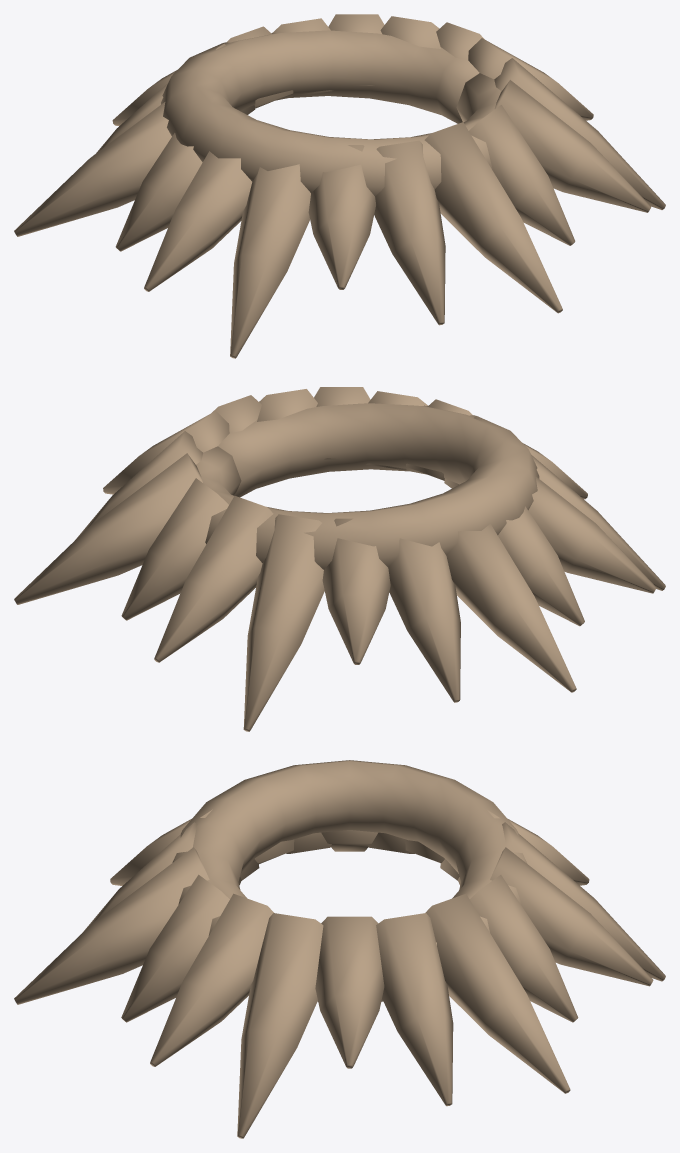
Rendered from echo-ruff.glb.
3 renders of one model, top to bottom at view 1: azimuth 30°, elevation 25°; view 2: azimuth 150°, elevation 25°; view 3: azimuth 270°, elevation 25°, orthographic. The views are drawn at different scales.
Visible parts, largest first — view 1: Echo_ruff_band, Echo_ruff_14, Echo_ruff_11, Echo_ruff_13, Echo_ruff_08, Echo_ruff_16, Echo_ruff_10, Echo_ruff_15, Echo_ruff_12, Echo_ruff_09, Echo_ruff_17, Echo_ruff_00 (+7 smaller); view 2: Echo_ruff_band, Echo_ruff_05, Echo_ruff_02, Echo_ruff_08, Echo_ruff_04, Echo_ruff_07, Echo_ruff_03, Echo_ruff_10, Echo_ruff_06, Echo_ruff_09, Echo_ruff_00, Echo_ruff_01 (+7 smaller); view 3: Echo_ruff_band, Echo_ruff_17, Echo_ruff_02, Echo_ruff_01, Echo_ruff_14, Echo_ruff_16, Echo_ruff_00, Echo_ruff_04, Echo_ruff_15, Echo_ruff_03, Echo_ruff_05, Echo_ruff_13 (+5 smaller).
Part boxes in pixels (x1=…): Echo_ruff_band: x1=161, y1=30, x2=501, y2=196; Echo_ruff_14: x1=424, y1=122, x2=562, y2=313; Echo_ruff_11: x1=230, y1=164, x2=310, y2=358; Echo_ruff_13: x1=374, y1=140, x2=445, y2=325; Echo_ruff_08: x1=14, y1=102, x2=171, y2=236; Echo_ruff_16: x1=494, y1=80, x2=650, y2=212; Echo_ruff_10: x1=144, y1=151, x2=252, y2=291; Echo_ruff_15: x1=469, y1=105, x2=575, y2=245; Echo_ruff_12: x1=308, y1=145, x2=375, y2=289; Echo_ruff_09: x1=115, y1=133, x2=202, y2=251; Echo_ruff_17: x1=494, y1=58, x2=665, y2=209; Echo_ruff_00: x1=468, y1=38, x2=593, y2=120; Echo_ruff_band: x1=196, y1=403, x2=539, y2=569; Echo_ruff_05: x1=243, y1=514, x2=324, y2=731; Echo_ruff_02: x1=14, y1=453, x2=202, y2=604; Echo_ruff_08: x1=446, y1=524, x2=576, y2=692; Echo_ruff_04: x1=154, y1=496, x2=273, y2=662; Echo_ruff_07: x1=388, y1=538, x2=460, y2=702; Echo_ruff_03: x1=121, y1=478, x2=228, y2=620; Echo_ruff_10: x1=528, y1=476, x2=656, y2=593; Echo_ruff_06: x1=322, y1=518, x2=390, y2=664; Echo_ruff_09: x1=498, y1=506, x2=584, y2=626; Echo_ruff_00: x1=103, y1=411, x2=229, y2=494; Echo_ruff_01: x1=75, y1=431, x2=202, y2=539; Echo_ruff_band: x1=172, y1=760, x2=526, y2=1001; Echo_ruff_17: x1=237, y1=913, x2=323, y2=1138; Echo_ruff_02: x1=425, y1=894, x2=570, y2=1093; Echo_ruff_01: x1=376, y1=913, x2=453, y2=1106; Echo_ruff_14: x1=14, y1=847, x2=209, y2=1004; Echo_ruff_16: x1=150, y1=893, x2=273, y2=1066; Echo_ruff_00: x1=315, y1=916, x2=384, y2=1068; Echo_ruff_04: x1=490, y1=847, x2=653, y2=986; Echo_ruff_15: x1=121, y1=874, x2=229, y2=1022; Echo_ruff_03: x1=470, y1=875, x2=578, y2=1022; Echo_ruff_05: x1=458, y1=822, x2=665, y2=981; Echo_ruff_13: x1=82, y1=822, x2=241, y2=932.
Size of the model in its own units: 0.3545 by 0.1032 by 0.3514.
